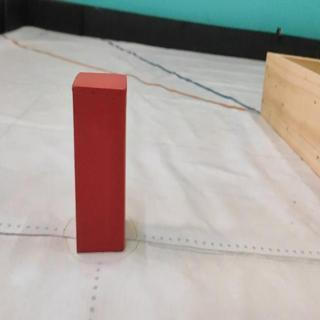redbox: (72, 71, 128, 254)
